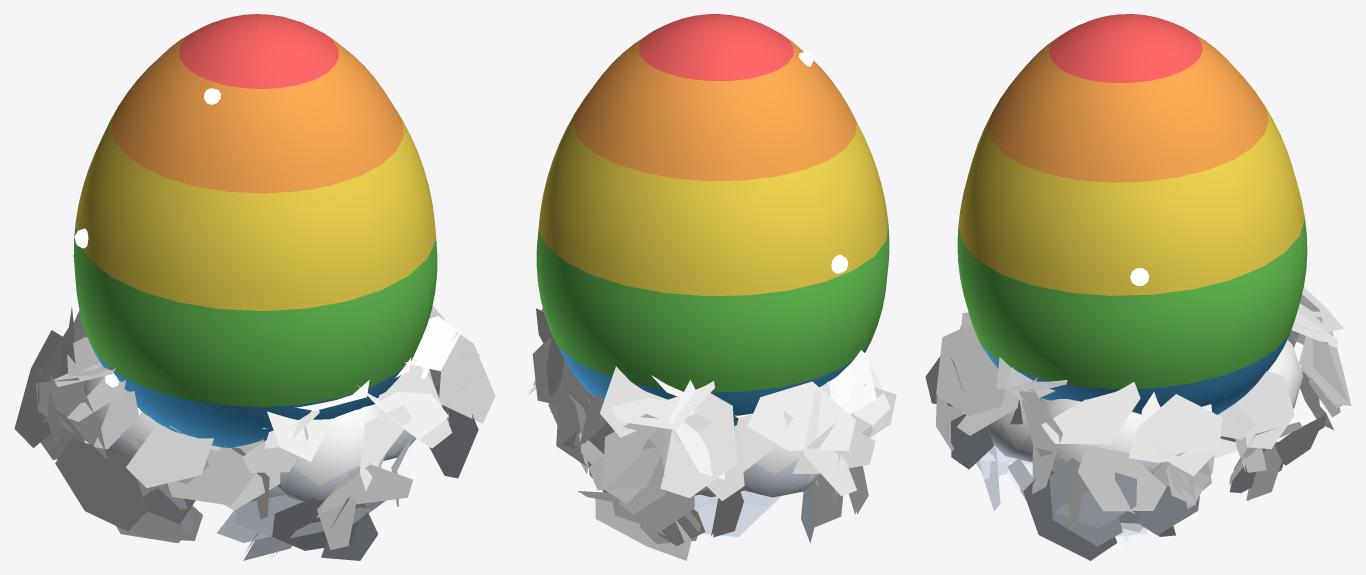
The model's file is EggRainbow.glb.
3 views of the same model, side by side, from view 1: azimuth 30°, elevation 25°; view 2: azimuth 150°, elevation 25°; view 3: azimuth 270°, elevation 25° (orthographic). The views are drawn at different scales.
Visible parts, largest first — view 1: Body, Glow; view 2: Body; view 3: Body.
Part boxes in pixels (<box>): Body: <box>14,14,495,560</box>; Glow: <box>74,88,220,414</box>; Body: <box>525,14,896,560</box>; Body: <box>925,14,1351,560</box>.
Size of the model in its own units: 2.33 by 3.08 by 2.33.
Materials: 2 (1 with a texture image).
